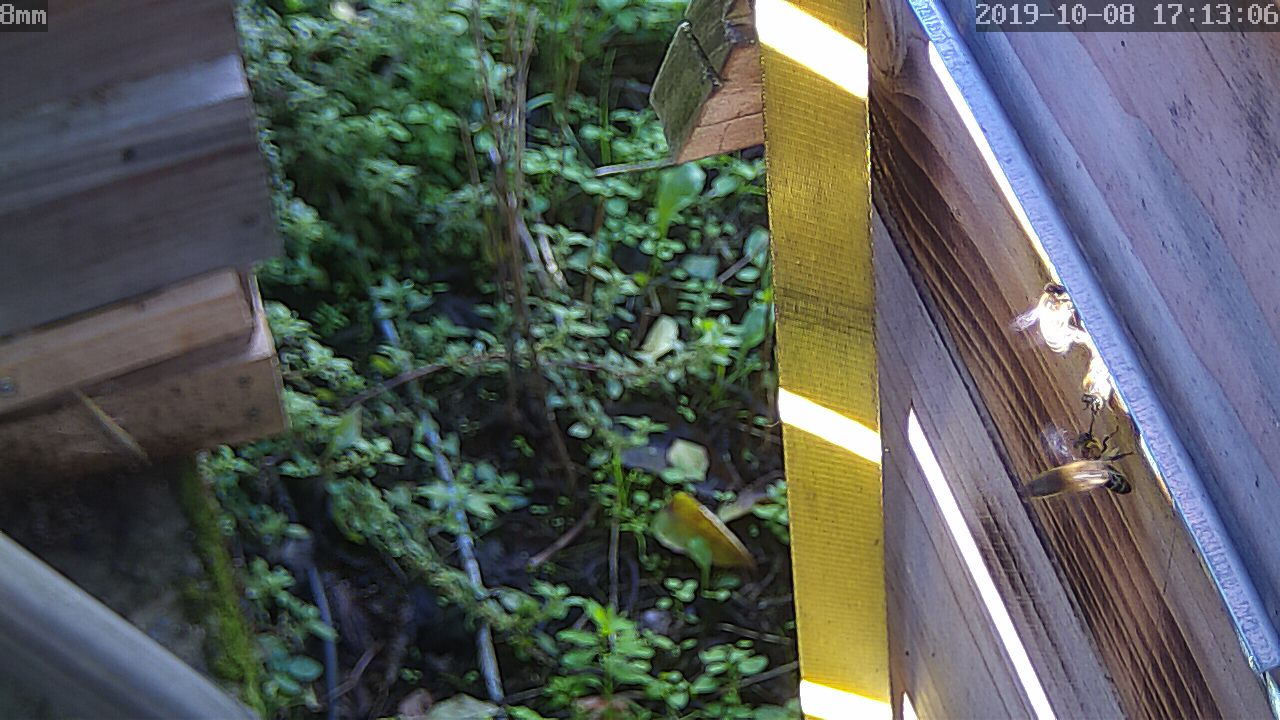bee: (1061, 424, 1141, 502), (1013, 274, 1079, 360), (1073, 359, 1126, 427)
